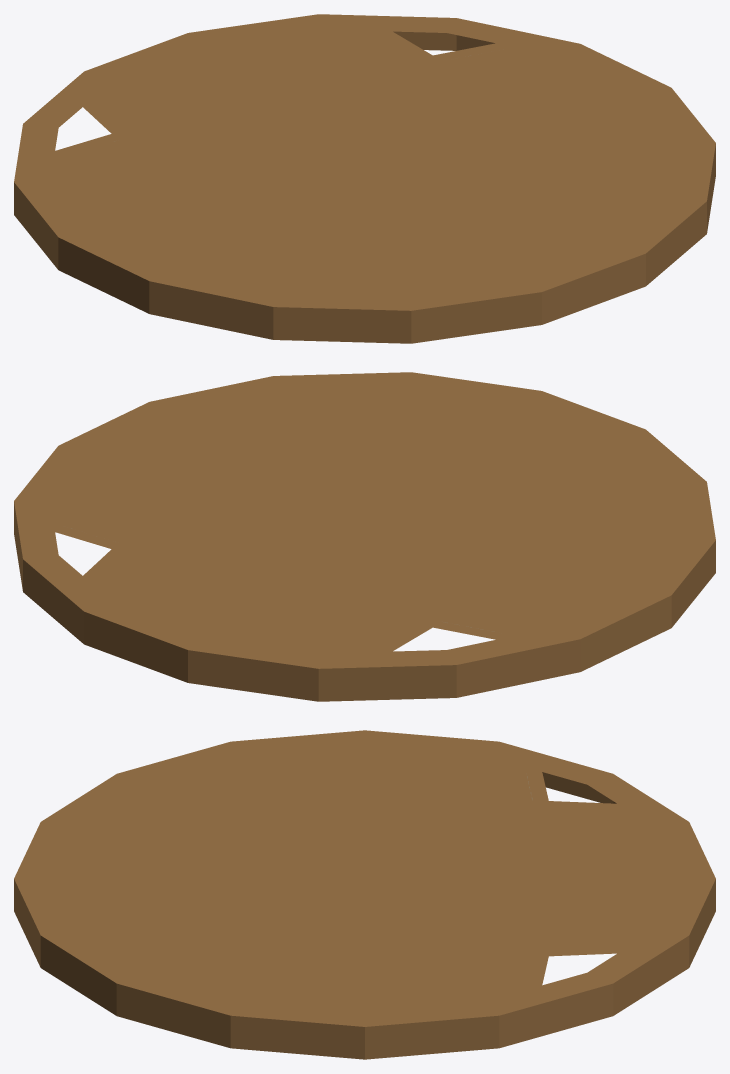
Rendered from stone_slinger_base.fbx.
The picture shows the model from 3 angles, top to bottom: view 1: azimuth 30°, elevation 25°; view 2: azimuth 150°, elevation 25°; view 3: azimuth 270°, elevation 25°; orthographic projection.
Visible parts, largest first — view 1: base_visual; view 2: base_visual; view 3: base_visual.
Part boxes in pixels (x1=…): base_visual: x1=14, y1=14, x2=715, y2=343; base_visual: x1=14, y1=372, x2=715, y2=701; base_visual: x1=14, y1=730, x2=715, y2=1059.
Size of the model in its own units: 138 by 7.06 by 138.
Materials: 1 (1 with a texture image).
